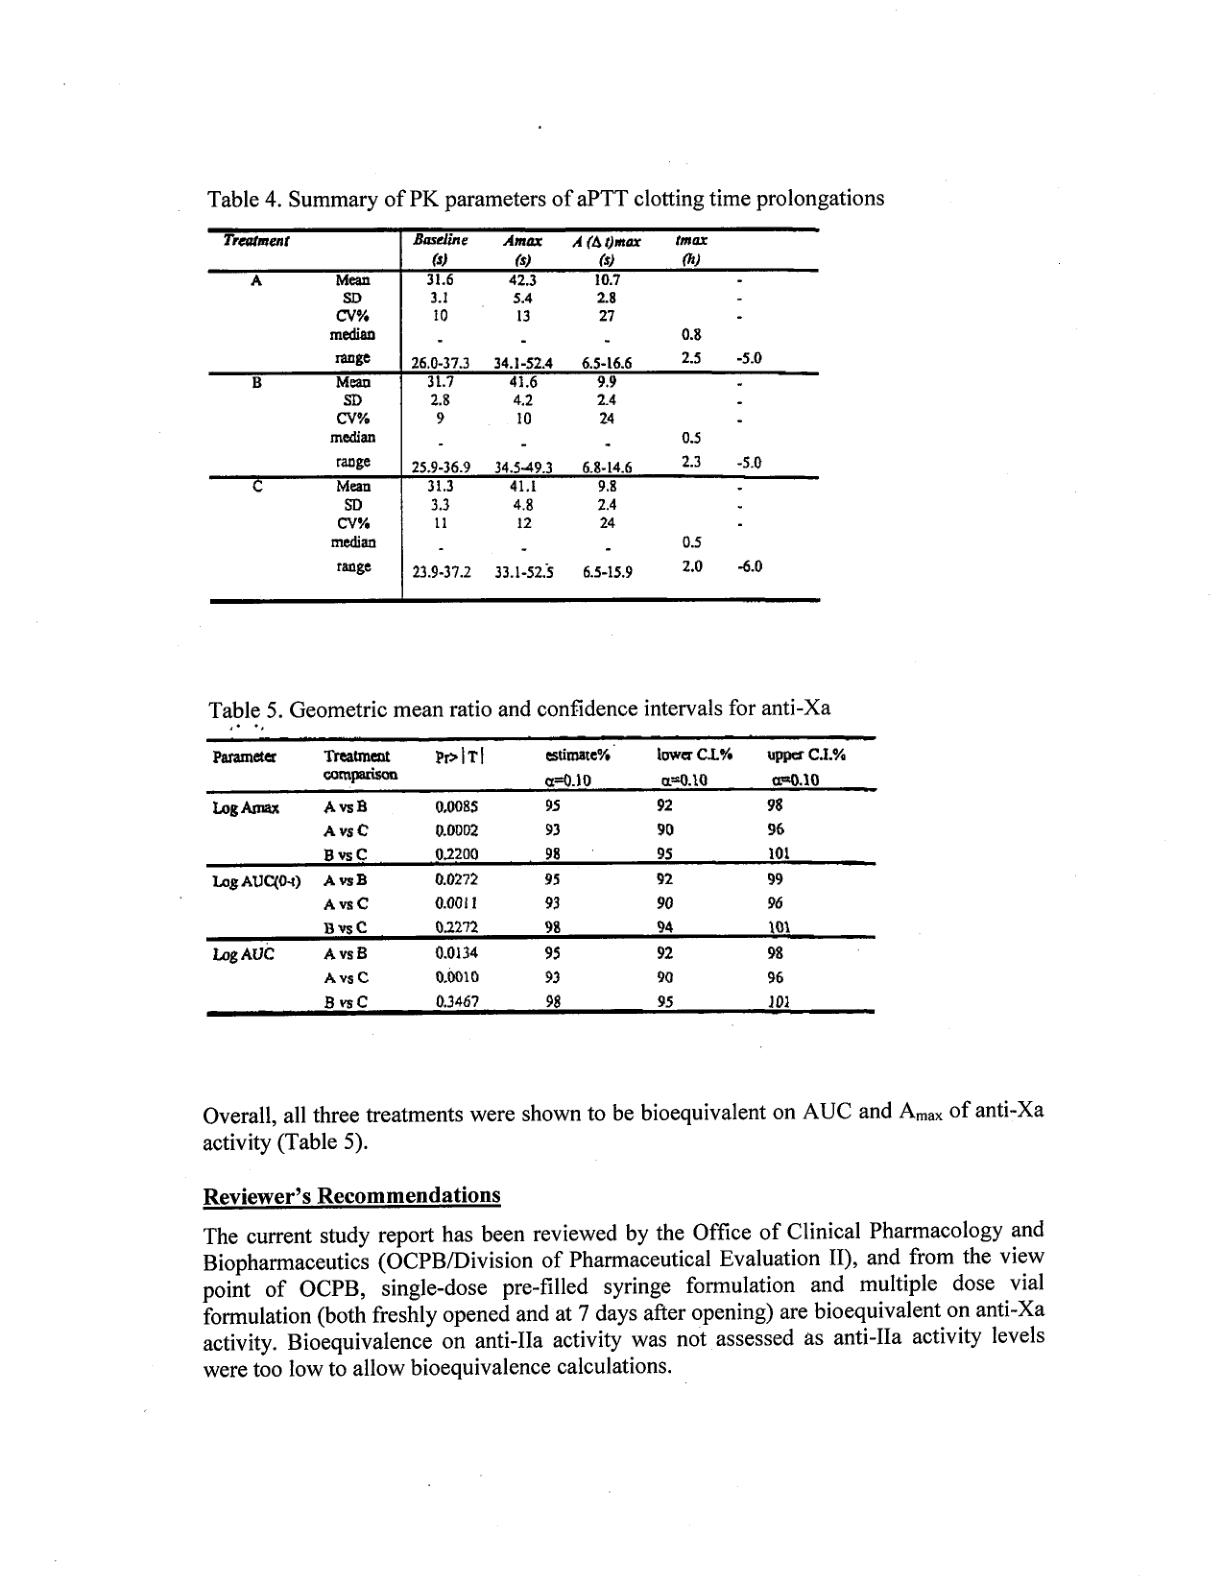partial_lined: (204, 226, 822, 606), (203, 733, 877, 1016)
